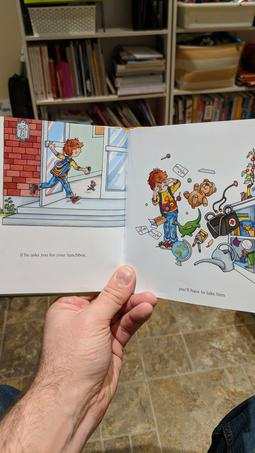text block: (11, 248, 92, 262), (171, 282, 232, 300)
